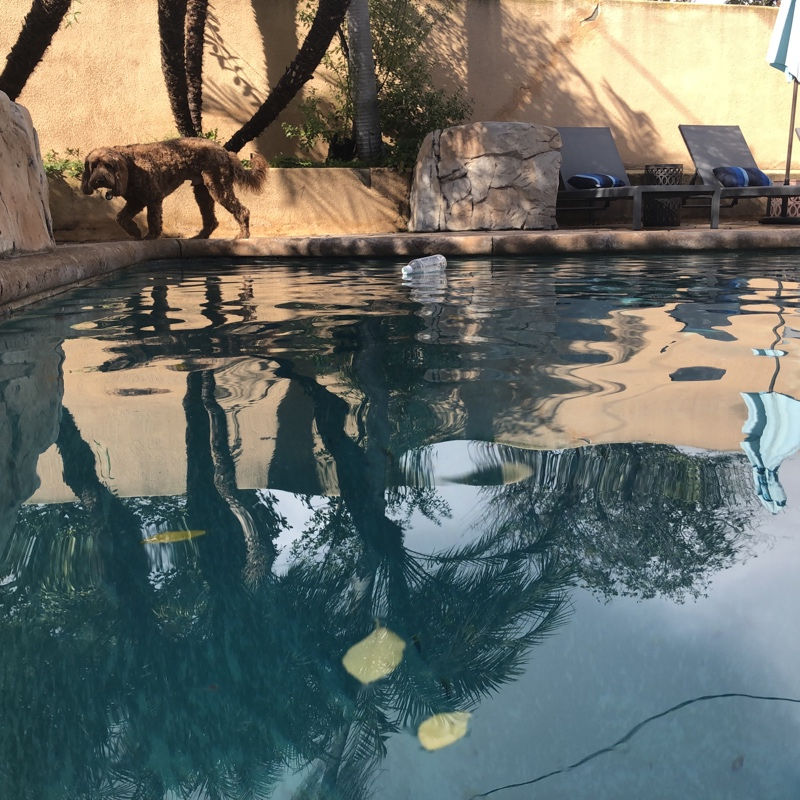Plastic Bottle: (398, 251, 451, 280)
